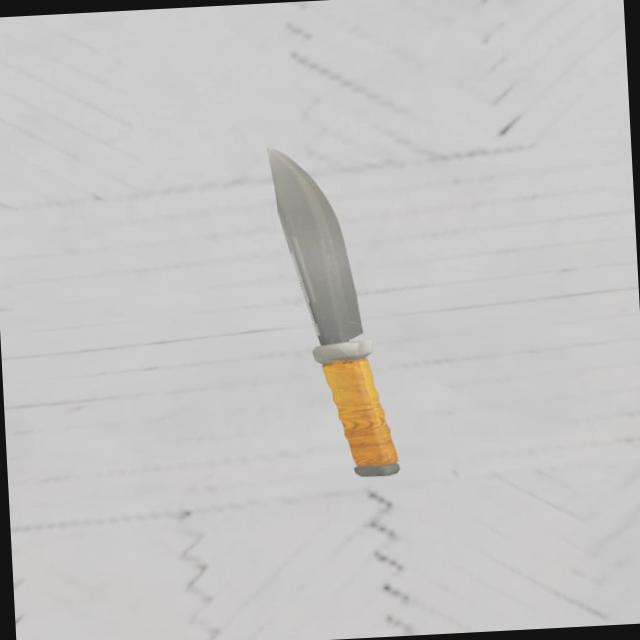knife: (314, 338, 397, 478)
